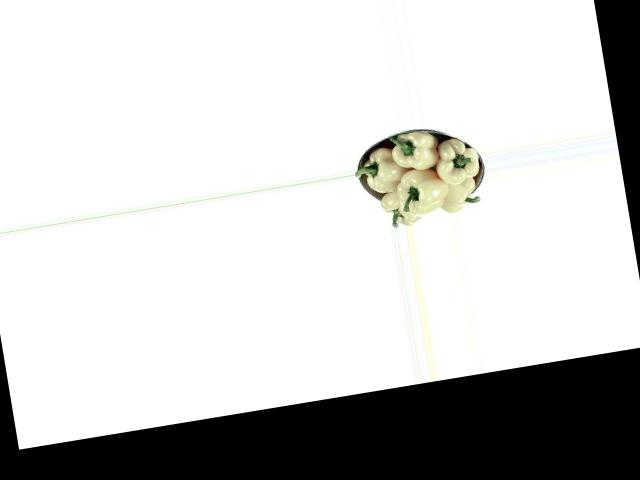bell_pepper: (374, 183, 422, 229)
